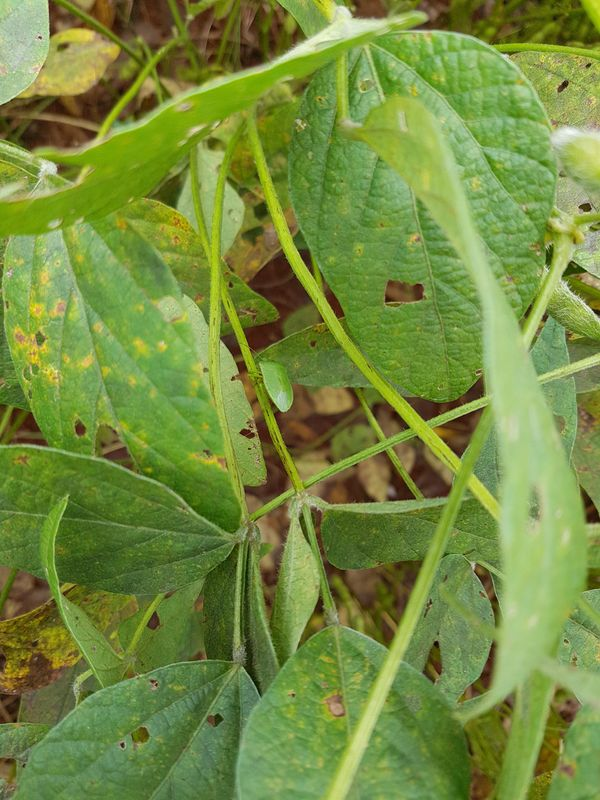Nezara_viridula_adulto: (234, 344, 307, 425)
